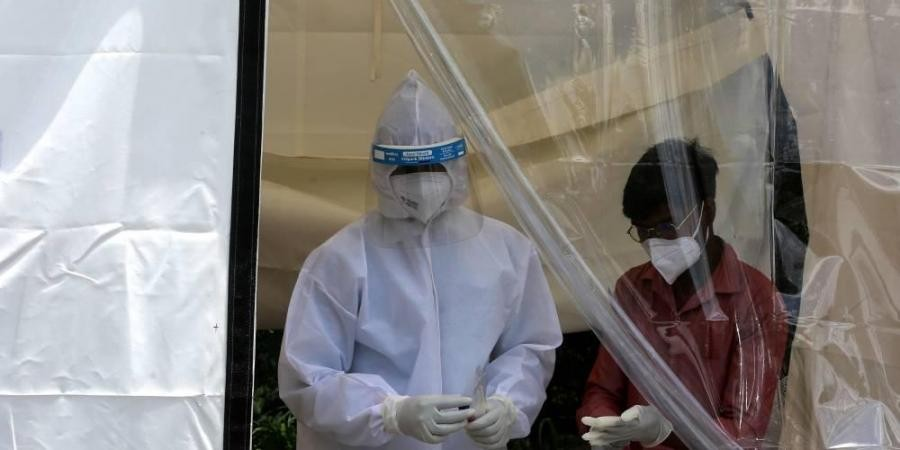Coverall: (276, 65, 566, 450)
Face_Shield: (361, 137, 483, 255)
Gloves: (380, 391, 476, 450), (579, 402, 677, 450), (467, 392, 519, 450)
with_mask: (634, 217, 706, 285), (392, 163, 451, 222)
